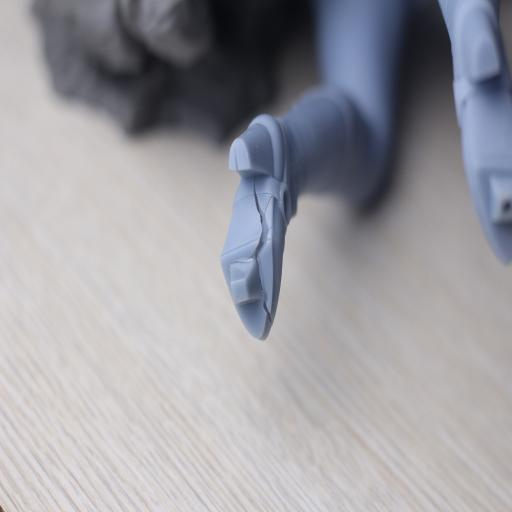cracks: (239, 168, 283, 335)
